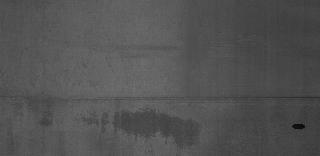oil spot: (108, 109, 202, 146)
punching hole: (292, 122, 306, 132)
welding line: (1, 92, 319, 104)
